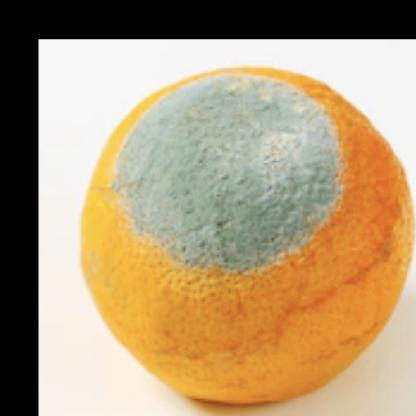rotten: (81, 64, 416, 406)
